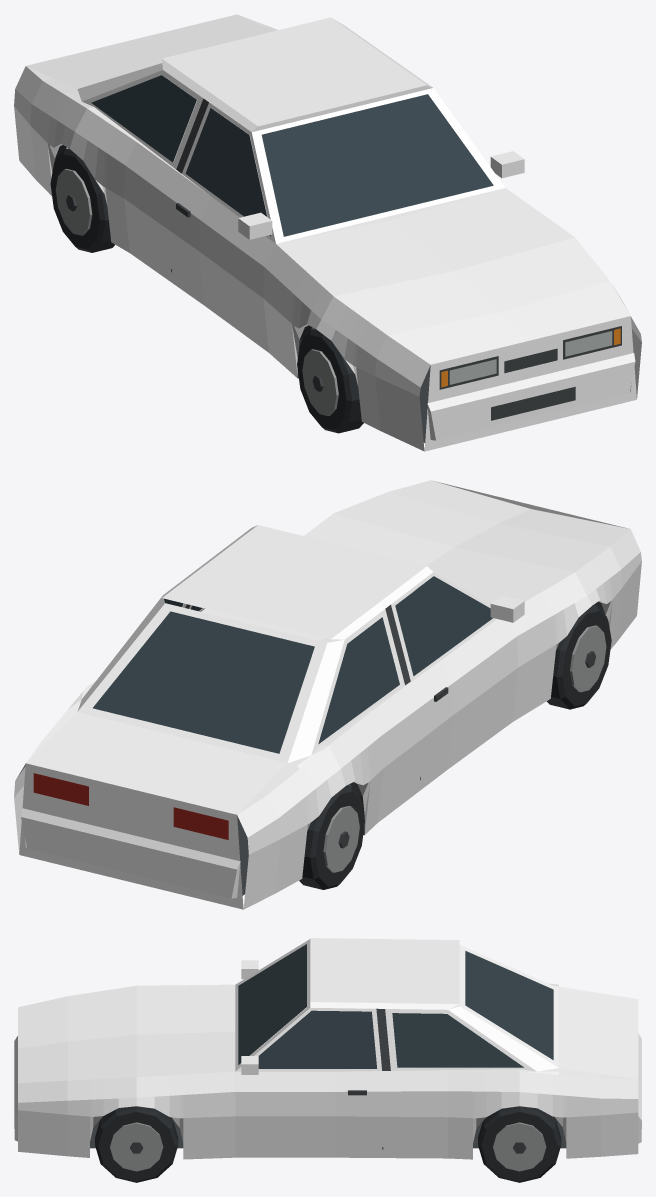
Rendered from kanaya_fuyu_s.glb.
3 renders of one model, top to bottom at view 1: azimuth 30°, elevation 25°; view 2: azimuth 150°, elevation 25°; view 3: azimuth 270°, elevation 25°, orthographic. The views are drawn at different scales.
Visible parts, largest first — view 1: kanaya_fuyu_s; view 2: kanaya_fuyu_s; view 3: kanaya_fuyu_s.
Boxes of the visible parts, bbox=[...] form: kanaya_fuyu_s: bbox=[14, 14, 641, 451]; kanaya_fuyu_s: bbox=[14, 480, 641, 909]; kanaya_fuyu_s: bbox=[14, 938, 641, 1182].
Size of the model in its own units: 1.7 by 1.24 by 4.31.
Materials: 8 (1 with a texture image).
